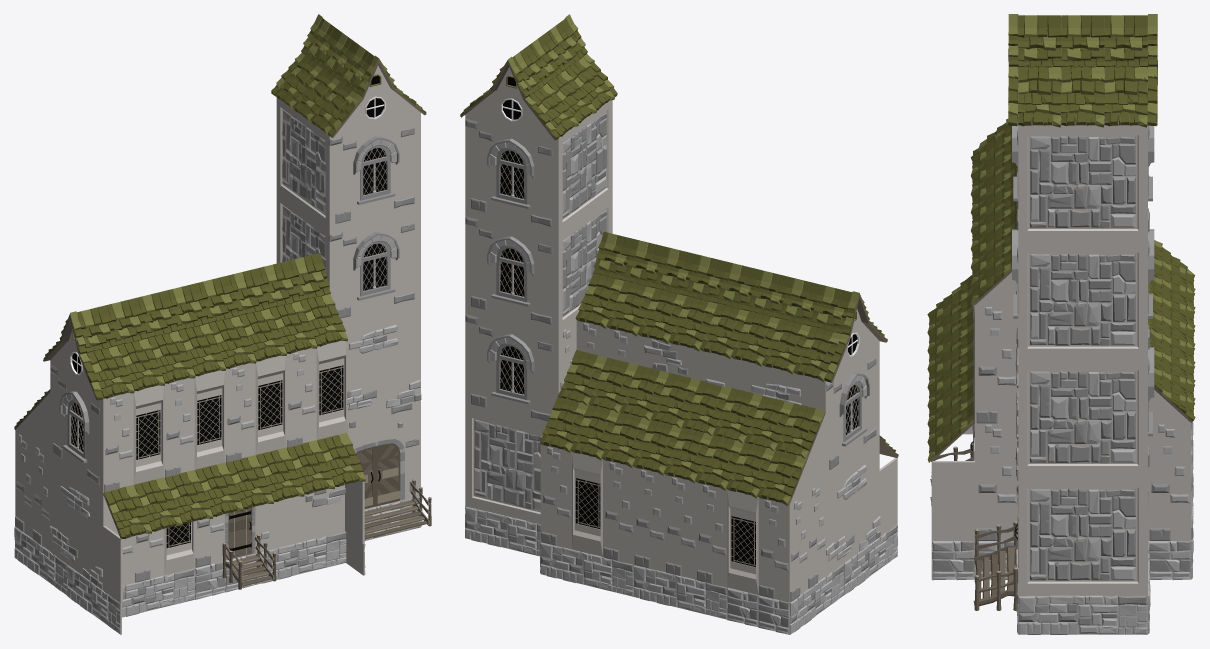
The model's file is House_16.glb.
3 views of the same model, side by side, from view 1: azimuth 30°, elevation 25°; view 2: azimuth 150°, elevation 25°; view 3: azimuth 270°, elevation 25° (orthographic). The views are drawn at different scales.
Visible parts, largest first — view 1: WINDOW_03_31, WINDOW_03_30, WALL_03_2, DOOR_02_4, WALL_02_6, WALL_03_3, WINDOW_03_29, WALL_01_2, WINDOW_04_5, WALL_06_12, WALL_06_11, WALL_06_10 (+56 smaller); view 2: WINDOW_03_33, WINDOW_03_34, WINDOW_03_32, WALL_02_9, WALL_02_6, WALL_03_3, WINDOW_03_29, WALL_02_8, WALL_06_21, WALL_06_23, WALL_06_22, WALL_06_20 (+60 smaller); view 3: WALL_02_5, WALL_02_3, WALL_02_7, WALL_02_4, FOUNDATION_03_5, WALL_06_14, WALL_06_13, WALL_06_3, STAIRS_01_3, ROOF_BASE_25, ROOF_BASE_27, ROOF_BASE_23 (+45 smaller).
Part boxes in pixels (x1,y1,x2,y2): WINDOW_03_31: (329,112,420,229); WINDOW_03_30: (329,208,420,322); WALL_03_2: (342,304,421,417); DOOR_02_4: (347,400,420,508); WALL_02_6: (276,98,332,230); WALL_03_3: (49,456,103,589); WINDOW_03_29: (50,360,104,493); WALL_01_2: (255,484,345,552); WINDOW_04_5: (133,385,164,485); WALL_06_12: (286,348,316,448); WALL_06_11: (225,363,255,463); WALL_06_10: (164,378,194,477); WINDOW_03_33: (465,212,558,331); WINDOW_03_34: (465,115,558,234); WINDOW_03_32: (465,310,558,427); WALL_02_9: (465,408,545,523); WALL_02_6: (555,100,612,235); WALL_03_3: (825,439,880,575); WINDOW_03_29: (825,341,879,477); WALL_02_8: (555,196,612,332); WALL_06_21: (665,474,696,579); WALL_06_23: (758,497,790,602); WALL_06_22: (696,482,727,586); WALL_06_20: (634,466,665,571); WALL_02_5: (1018,242,1147,360); WALL_02_3: (1018,360,1147,477); WALL_02_7: (1018,125,1147,242); WALL_02_4: (1018,478,1147,595); FOUNDATION_03_5: (1018,595,1147,634); WALL_06_14: (1148,423,1191,540); WALL_06_13: (975,305,1018,423); WALL_06_3: (975,423,1018,540); STAIRS_01_3: (973,521,1017,610); ROOF_BASE_25: (1061,65,1104,127); ROOF_BASE_27: (1104,65,1147,127); ROOF_BASE_23: (1018,65,1061,127).
Bounding box in the file's own units: 11.33 × 15.14 × 6.2.
1 material, 1 textured.
